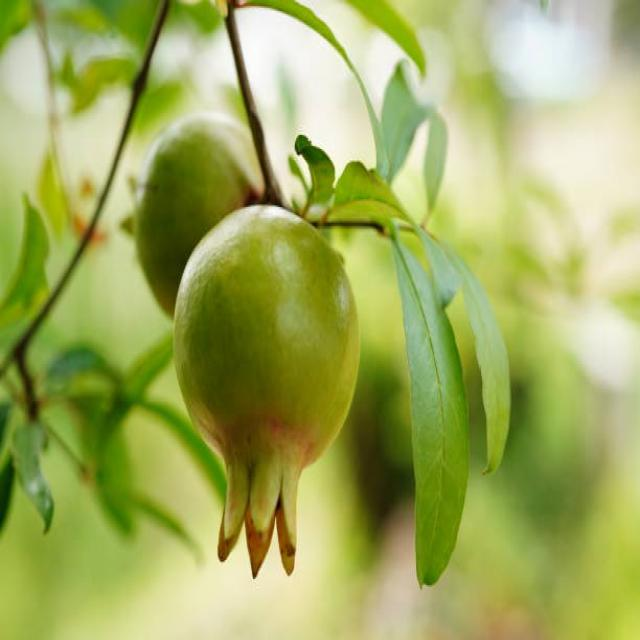Unripe: (176, 199, 363, 580)
